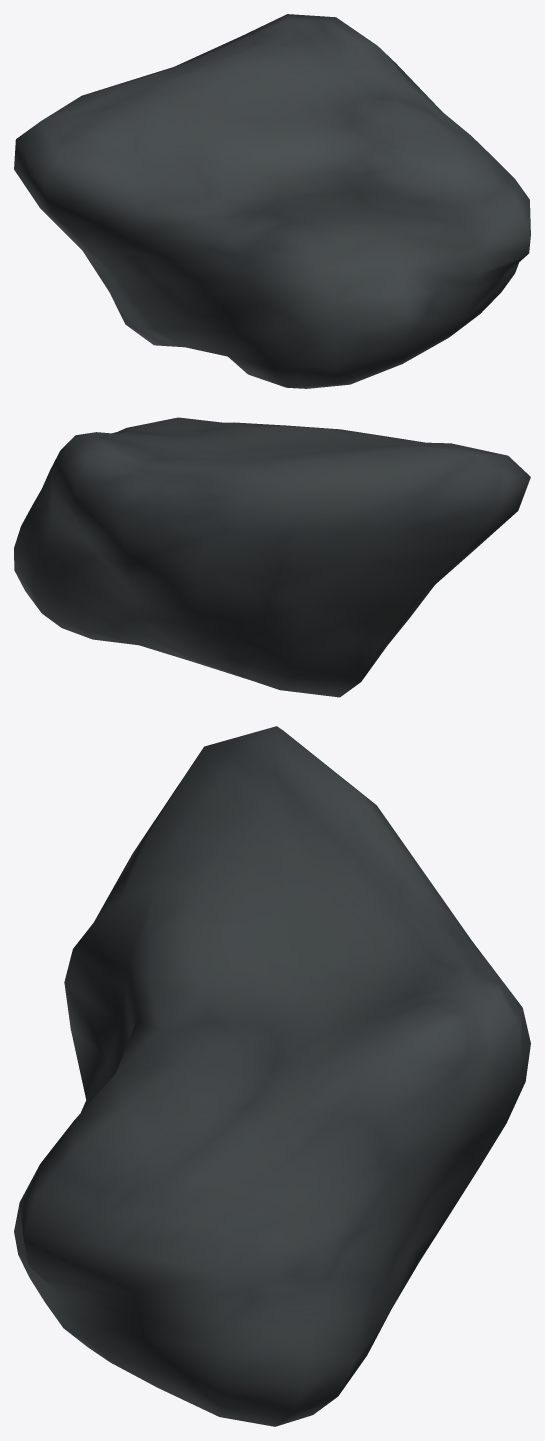
The model's file is Asteroid-04.fbx.
3 views of the same model, one above another, from view 1: azimuth 30°, elevation 25°; view 2: azimuth 150°, elevation 25°; view 3: azimuth 270°, elevation 25° (orthographic). The views are drawn at different scales.
Parts seen in each view (by area): view 1: Asteroid_Opt04_LOD0; view 2: Asteroid_Opt04_LOD0; view 3: Asteroid_Opt04_LOD0.
Part boxes in pixels (left/top/right/bottom): Asteroid_Opt04_LOD0: left=14, top=14, right=530, bottom=388; Asteroid_Opt04_LOD0: left=14, top=417, right=530, bottom=697; Asteroid_Opt04_LOD0: left=14, top=726, right=530, bottom=1426.
Size of what is drawn, in the model's own units: 328 by 180 by 200.
